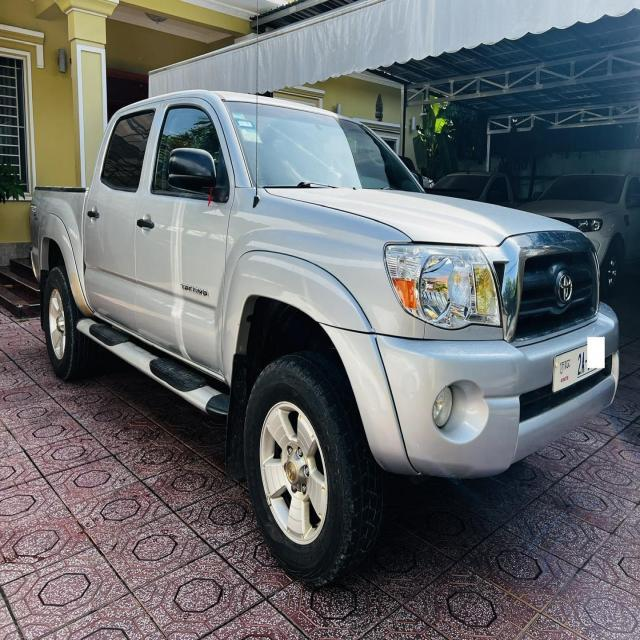Kratie: (560, 359, 572, 375)
